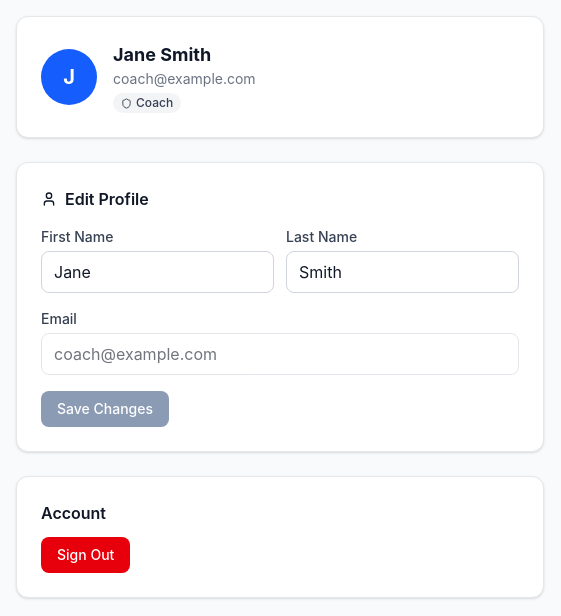
Test: ProfilePage — save button disabled state › save button is enabled (not silently blocked) when first name is cleared
Clear the field labelled "First Name" at {"x": 158, "y": 272}, box [41, 251, 274, 293]
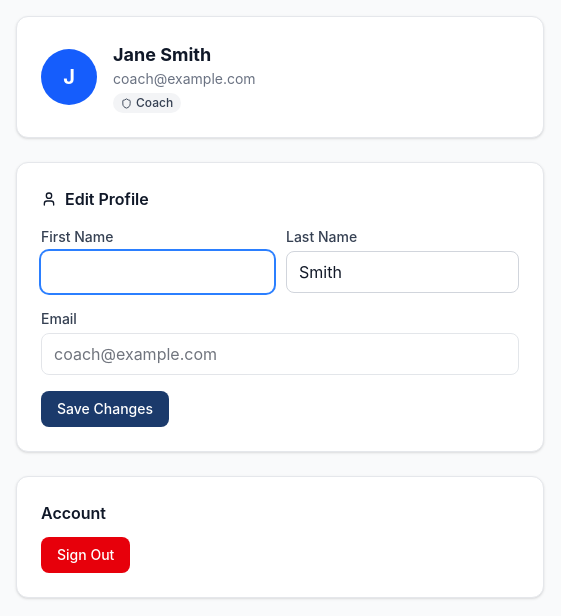
Check: the button "Save Changes" is enabled, box [41, 391, 169, 427]
